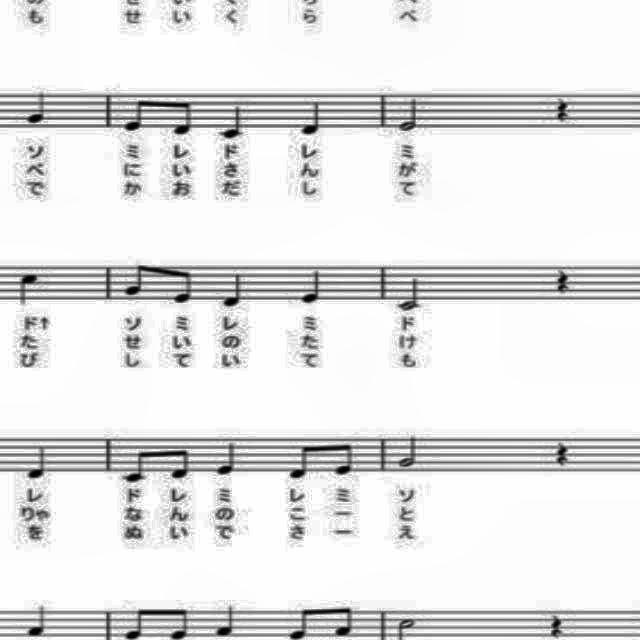Eighth-note: (116, 437, 156, 488), (285, 432, 317, 484), (118, 254, 152, 302), (117, 90, 149, 134), (168, 262, 196, 310), (328, 431, 356, 479), (120, 600, 152, 640), (168, 94, 196, 138), (282, 604, 314, 640), (166, 442, 194, 482), (329, 602, 357, 640), (165, 604, 191, 640)
Half-note: (389, 266, 426, 314), (396, 90, 424, 134), (393, 432, 423, 472)
Quarter-note: (22, 434, 54, 486), (216, 99, 252, 141), (219, 269, 249, 309), (25, 86, 53, 126), (16, 266, 44, 306), (24, 600, 52, 640), (296, 266, 324, 306), (297, 98, 325, 138), (214, 439, 242, 476), (214, 603, 238, 639)
Quarter-rest: (548, 87, 576, 125), (552, 263, 576, 297), (550, 437, 574, 469), (544, 610, 568, 640)
